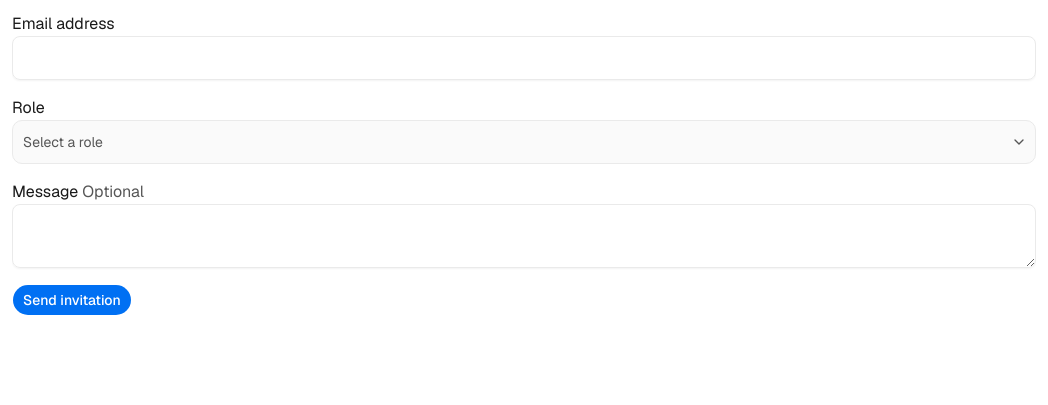
it: TeammateInvitationForm › blocks submission without a valid email and role
Click the button "Send invitation" at (72, 300), box [12,284,132,316]
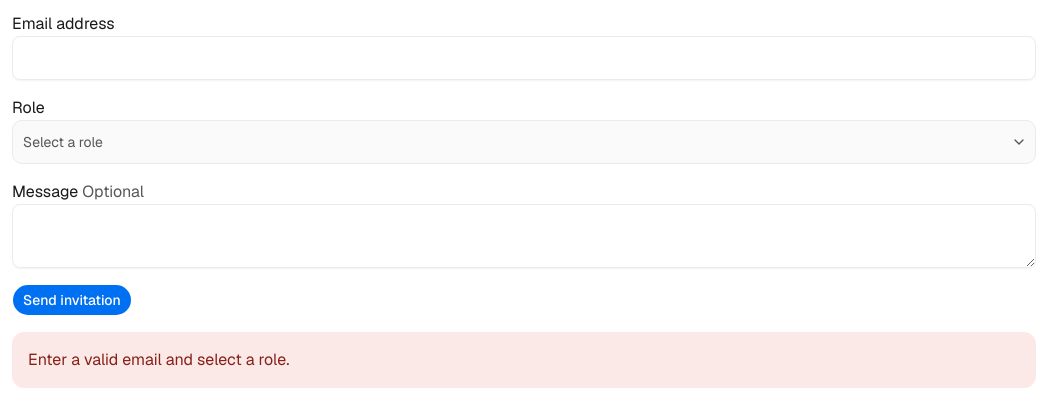
Now the message shows "valid email", box [28,349,289,370]
